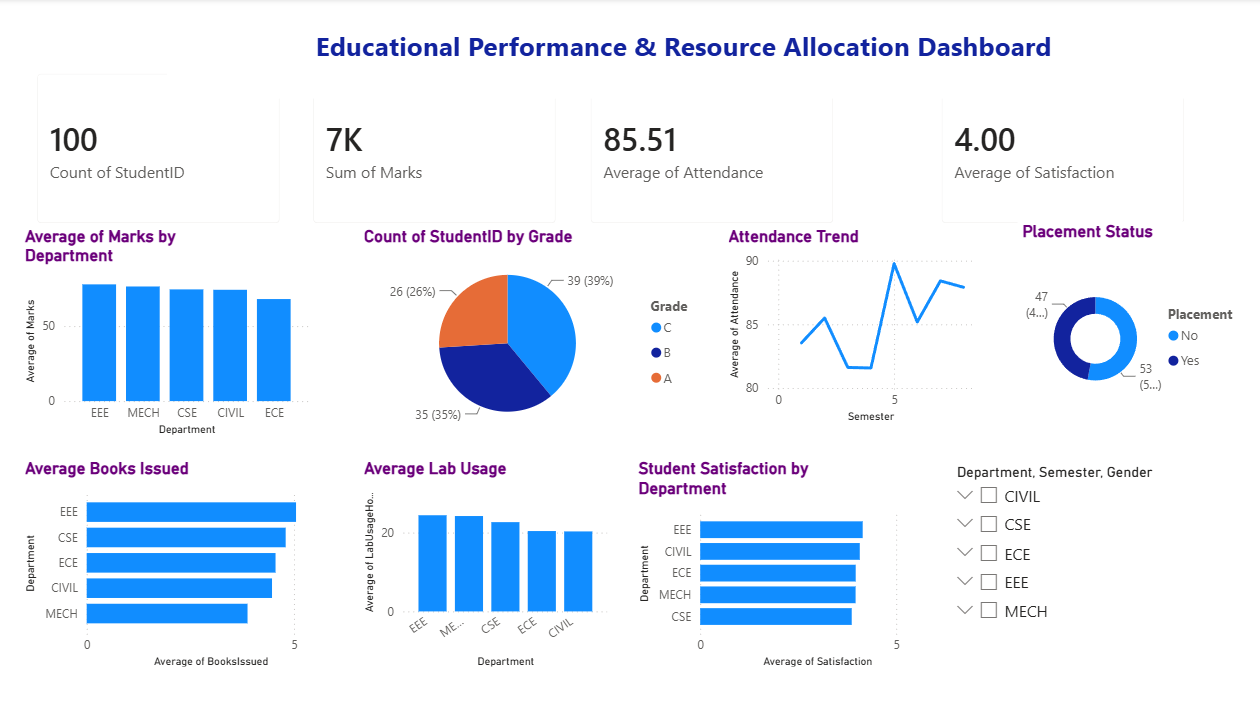

This screenshot's page, from the dashboard's own definition file:
{"tool":"powerbi","page":{"name":"Page 1","canvas":[1280,720],"ordinal":0},"visuals":[{"type":"cardVisual","fields":{"Data":["CountNonNull(StudentData.StudentID)"]},"box":[20.8,58.6,279.7,185.2],"z":0},{"type":"cardVisual","fields":{"Data":["Sum(StudentData.Marks)"]},"box":[300.5,58.6,279.7,185.2],"z":1},{"type":"cardVisual","fields":{"Data":["Avg(StudentData.Attendance)"]},"box":[580.2,58.6,279.7,185.2],"z":2},{"type":"cardVisual","fields":{"Data":["Avg(StudentData.Satisfaction)"]},"box":[933.6,58.6,279.7,185.2],"z":3},{"type":"clusteredColumnChart","fields":{"Category":["StudentData.Department"],"Y":["Avg(StudentData.Marks)"]},"box":[20.8,230.6,296.7,215.4],"z":4},{"type":"pieChart","fields":{"Category":["StudentData.Grade"],"Y":["CountNonNull(StudentData.StudentID)"]},"box":[362.8,230.6,357.2,215.4],"z":5},{"type":"lineChart","title":"Attendance Trend","fields":{"Category":["StudentData.Semester"],"Y":["Avg(StudentData.Attendance)"]},"box":[731.3,230.6,257,202.2],"z":6},{"type":"clusteredBarChart","title":"Average Books Issued","fields":{"Category":["StudentData.Department"],"Y":["Avg(StudentData.BooksIssued)"]},"box":[21.2,464.9,327.1,215],"z":7},{"type":"clusteredColumnChart","title":"Average Lab Usage","fields":{"Category":["StudentData.Department"],"Y":["Avg(StudentData.LabUsageHours)"]},"box":[363.4,464.9,255.9,215],"z":8},{"type":"donutChart","title":"Placement Status","fields":{"Category":["StudentData.Placement"],"Y":["CountNonNull(StudentData.StudentID)"]},"box":[1028,224.9,230.6,215.4],"z":9},{"type":"clusteredBarChart","title":"Student Satisfaction by Department","fields":{"Category":["StudentData.Department"],"Y":["Avg(StudentData.Satisfaction)"]},"box":[640.5,464.9,313.4,215],"z":10},{"type":"slicer","fields":{"Values":["StudentData.Department","StudentData.Semester","StudentData.Gender"]},"box":[953.9,464.9,304.4,201.4],"z":11},{"type":"textbox","box":[170.1,24.6,1043.2,77.5],"z":12}]}

Visuals, with their boxes in screenshot pixels (x1, y1, x2, y2), scaled from the page's 1280x720 canvas onto the 1260x703 screenshot:
cardVisual - CountNonNull(StudentData.StudentID): bbox=[20, 57, 296, 238]
cardVisual - Sum(StudentData.Marks): bbox=[296, 57, 571, 238]
cardVisual - Avg(StudentData.Attendance): bbox=[571, 57, 846, 238]
cardVisual - Avg(StudentData.Satisfaction): bbox=[919, 57, 1194, 238]
clusteredColumnChart - StudentData.Department x Avg(StudentData.Marks): bbox=[20, 225, 313, 435]
pieChart - StudentData.Grade x CountNonNull(StudentData.StudentID): bbox=[357, 225, 709, 435]
"Attendance Trend" lineChart: bbox=[720, 225, 973, 423]
"Average Books Issued" clusteredBarChart: bbox=[21, 454, 343, 664]
"Average Lab Usage" clusteredColumnChart: bbox=[358, 454, 610, 664]
"Placement Status" donutChart: bbox=[1012, 220, 1239, 430]
"Student Satisfaction by Department" clusteredBarChart: bbox=[630, 454, 939, 664]
slicer - StudentData.Department x StudentData.Semester: bbox=[939, 454, 1239, 651]
textbox: bbox=[167, 24, 1194, 100]
